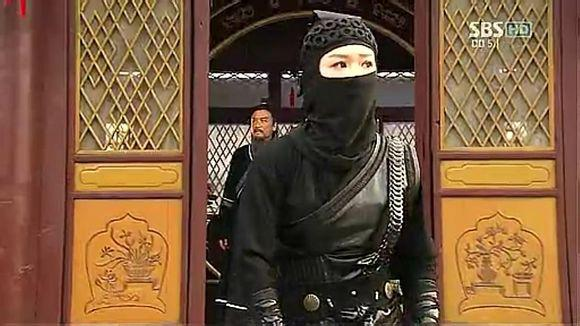NONE: (250, 116, 272, 139)
OK: (315, 45, 377, 114)
